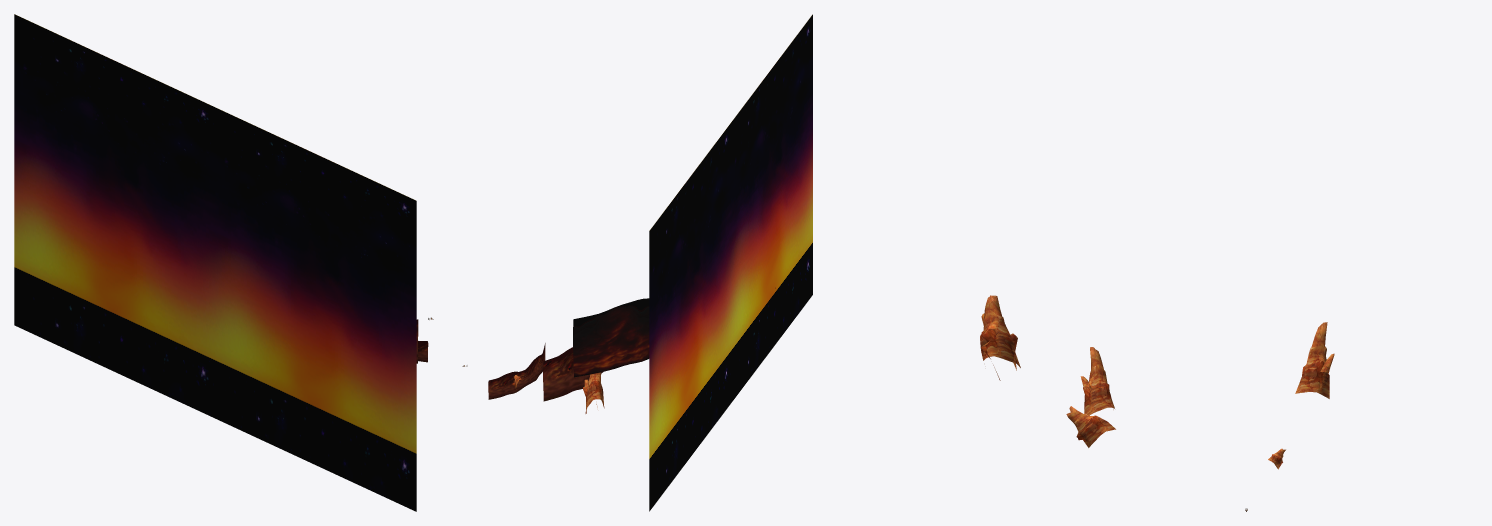
The model's file is mainmenu.glb.
3 renders of one model, left to right at view 1: azimuth 30°, elevation 25°; view 2: azimuth 150°, elevation 25°; view 3: azimuth 270°, elevation 25°, orthographic. The views are drawn at different scales.
Visible parts, largest first — view 1: 21; view 2: 21, 8, 7, 6, 5; view 3: 5.
Part boxes in pixels (x1=…): 21: x1=14, y1=14, x2=416, y2=511; 21: x1=649, y1=14, x2=812, y2=511; 8: x1=573, y1=298, x2=649, y2=377; 7: x1=543, y1=347, x2=603, y2=401; 6: x1=488, y1=343, x2=545, y2=399; 5: x1=512, y1=287, x2=775, y2=413; 5: x1=980, y1=295, x2=1334, y2=469.
Bounding box in the file's own units: 1143 × 1085 × 1844.
Materials: 13 (13 with a texture image).
